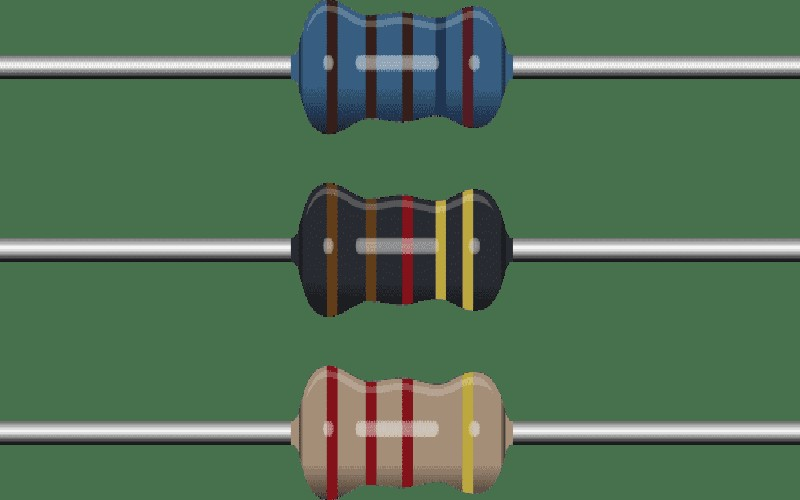Resistor: (271, 170, 525, 331), (272, 356, 532, 500), (264, 0, 527, 142)
